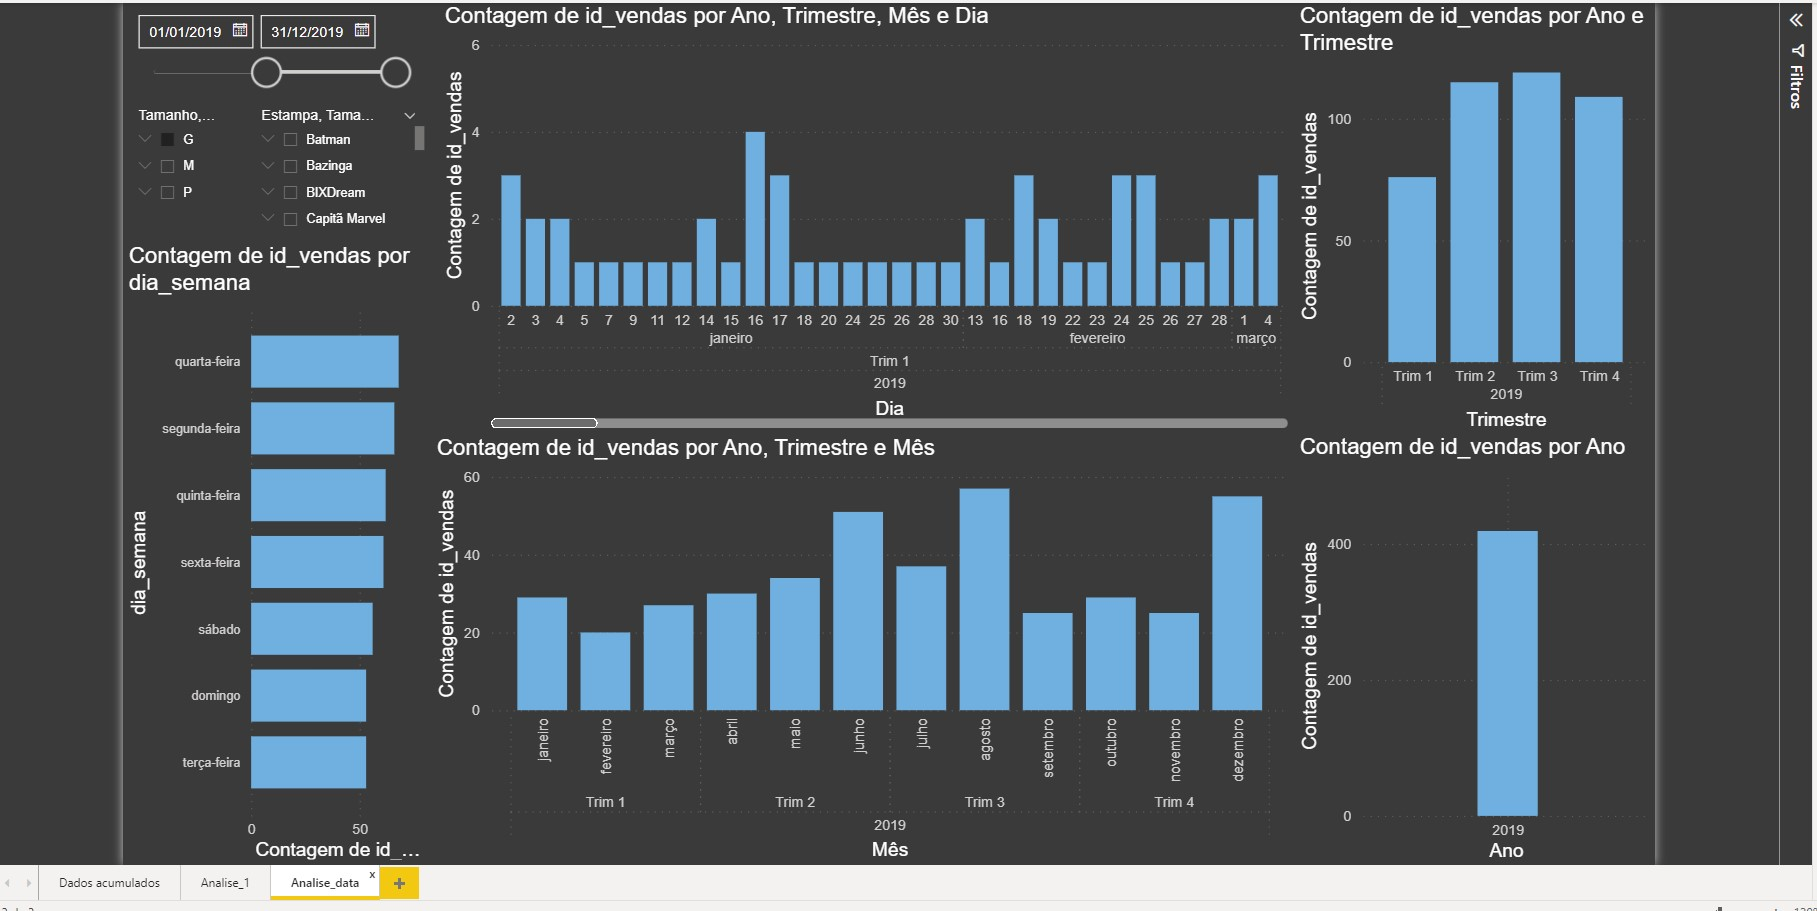

The page's visual inventory and layout, read from the dashboard file:
{"tool":"powerbi","page":{"name":"Analise_data","canvas":[1280,720],"ordinal":2},"visuals":[{"type":"slicer","fields":{"Values":["dados_vendas.Date"]},"box":[0,0,257.4,82.6],"z":0},{"type":"slicer","fields":{"Values":["dados_produtos.Size","dados_produtos.Name"]},"box":[0,81.9,102.6,118.2],"z":1000},{"type":"slicer","fields":{"Values":["dados_produtos.Name","dados_produtos.Size"]},"box":[102.6,81.9,154.4,109.5],"z":2000},{"type":"barChart","fields":{"Category":["dados_vendas.dia_semana"],"Y":["CountNonNull(dados_vendas.ID)"]},"box":[0,200.1,263.9,520.1],"z":3000},{"type":"columnChart","fields":{"Y":["CountNonNull(dados_vendas.id_vendas)"],"Category":["dados_vendas.Date.Variation.Hierarquia de datas.Ano","dados_vendas.Date.Variation.Hierarquia de datas.Trimestre","dados_vendas.Date.Variation.Hierarquia de datas.Mês","dados_vendas.Date.Variation.Hierarquia de datas.Dia"]},"box":[263.9,0,714.2,359.7],"z":4000},{"type":"columnChart","fields":{"Y":["CountNonNull(dados_vendas.id_vendas)"],"Category":["dados_vendas.Date.Variation.Hierarquia de datas.Ano","dados_vendas.Date.Variation.Hierarquia de datas.Trimestre","dados_vendas.Date.Variation.Hierarquia de datas.Mês","dados_vendas.Date.Variation.Hierarquia de datas.Dia"]},"box":[257,360.5,721.1,359.7],"z":5000},{"type":"columnChart","fields":{"Y":["CountNonNull(dados_vendas.id_vendas)"],"Category":["dados_vendas.Date.Variation.Hierarquia de datas.Ano","dados_vendas.Date.Variation.Hierarquia de datas.Trimestre","dados_vendas.Date.Variation.Hierarquia de datas.Mês","dados_vendas.Date.Variation.Hierarquia de datas.Dia"]},"box":[978.1,0,301.9,360.5],"z":6000},{"type":"columnChart","fields":{"Y":["CountNonNull(dados_vendas.id_vendas)"],"Category":["dados_vendas.Date.Variation.Hierarquia de datas.Ano","dados_vendas.Date.Variation.Hierarquia de datas.Trimestre","dados_vendas.Date.Variation.Hierarquia de datas.Mês","dados_vendas.Date.Variation.Hierarquia de datas.Dia"]},"box":[978.1,359.7,301.9,360.5],"z":7000}]}

Visuals, with their boxes on the page's 1280x720 design canvas (x1, y1, x2, y2). These are canvas units, not pixel positions in the 1817x911 screenshot, which may show the page scaled, cropped or inside an application window:
slicer - dados_vendas.Date: bbox=(0, 0, 257, 83)
slicer - dados_produtos.Size x dados_produtos.Name: bbox=(0, 82, 103, 200)
slicer - dados_produtos.Name x dados_produtos.Size: bbox=(103, 82, 257, 191)
barChart - dados_vendas.dia_semana x CountNonNull(dados_vendas.ID): bbox=(0, 200, 264, 720)
columnChart - CountNonNull(dados_vendas.id_vendas) x dados_vendas.Date.Variation.Hierarquia de datas.Ano: bbox=(264, 0, 978, 360)
columnChart - CountNonNull(dados_vendas.id_vendas) x dados_vendas.Date.Variation.Hierarquia de datas.Ano: bbox=(257, 360, 978, 720)
columnChart - CountNonNull(dados_vendas.id_vendas) x dados_vendas.Date.Variation.Hierarquia de datas.Ano: bbox=(978, 0, 1280, 360)
columnChart - CountNonNull(dados_vendas.id_vendas) x dados_vendas.Date.Variation.Hierarquia de datas.Ano: bbox=(978, 360, 1280, 720)
